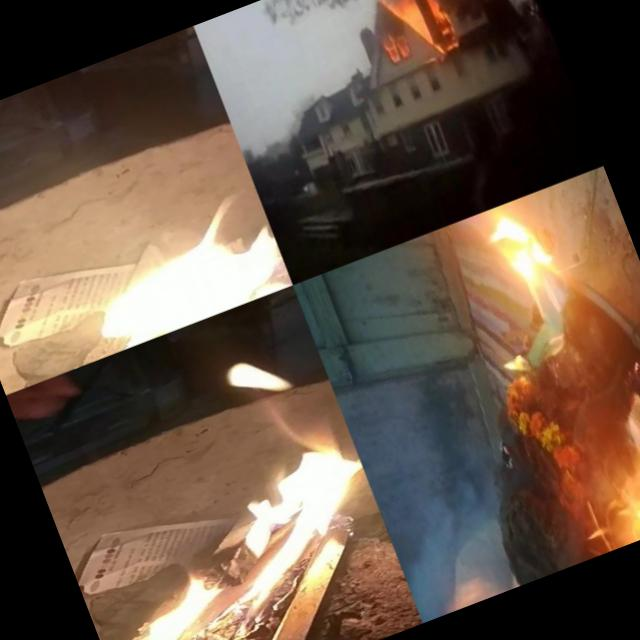fire: (21, 324, 406, 640), (7, 181, 293, 380), (470, 194, 588, 336), (585, 440, 640, 551), (381, 28, 414, 68)
smoke: (337, 353, 526, 622), (256, 0, 427, 40)
